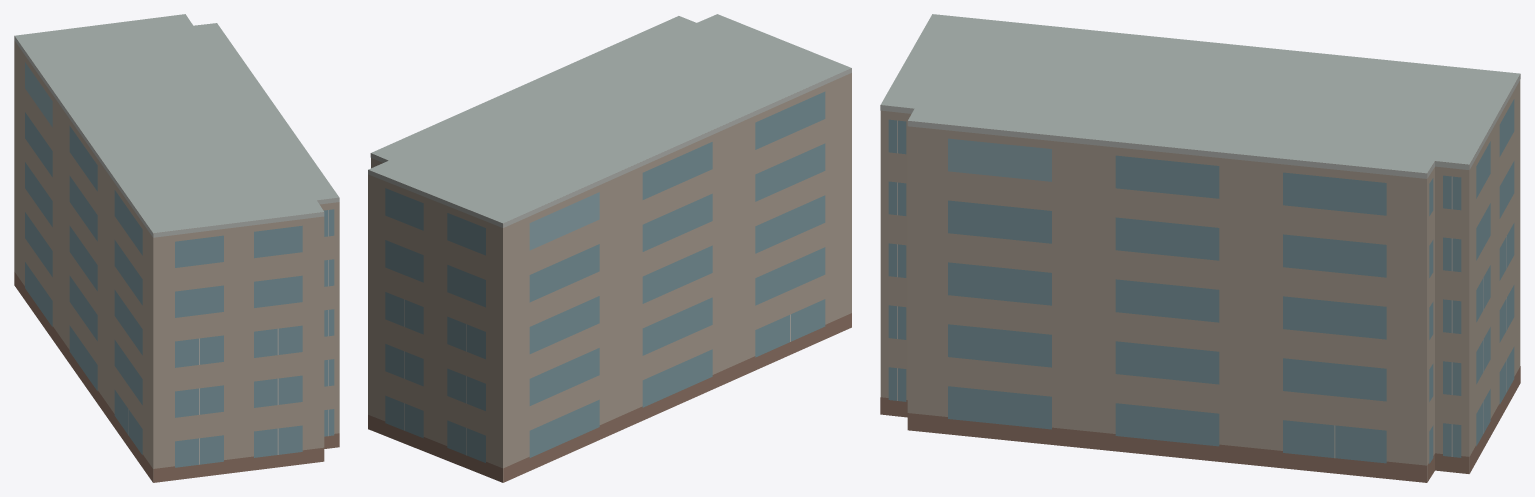
The model's file is survey-upis-32665424.glb.
The picture shows the model from 3 angles, left to right: view 1: azimuth 30°, elevation 25°; view 2: azimuth 150°, elevation 25°; view 3: azimuth 270°, elevation 25°; orthographic projection. The views are drawn at different scales.
Visible parts, largest first — view 1: survey-upis-32665424.tmp; view 2: survey-upis-32665424.tmp; view 3: survey-upis-32665424.tmp.
Boxes of the visible parts, x1,y1,x2,y2 form: survey-upis-32665424.tmp: [14, 14, 339, 482]; survey-upis-32665424.tmp: [368, 14, 851, 482]; survey-upis-32665424.tmp: [880, 14, 1520, 482].
Size of the model in its own units: 14.91 by 13.5 by 25.31.
